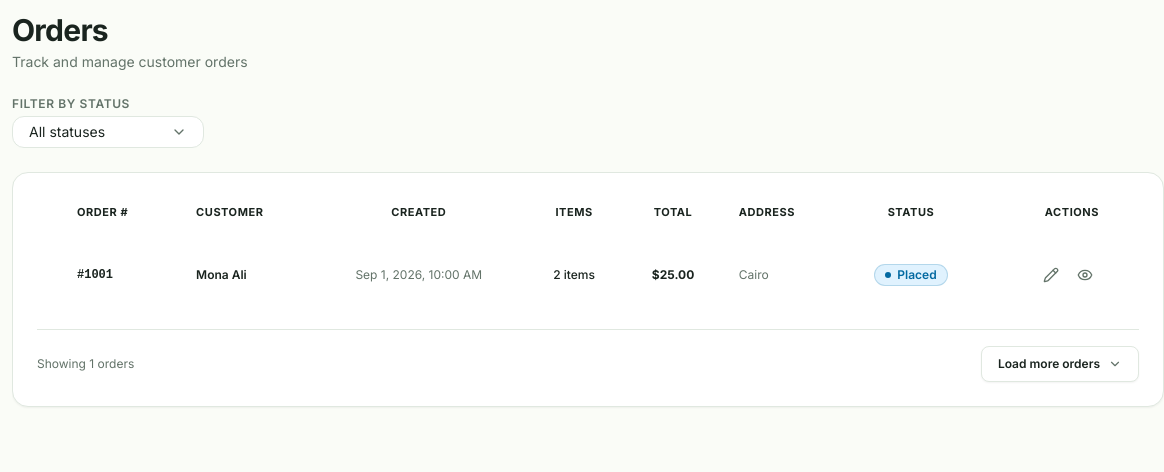
Test: orders pages › loads the next page and keeps existing orders
Click the button "Load more orders" at point(1060, 364), box [981, 346, 1139, 382]
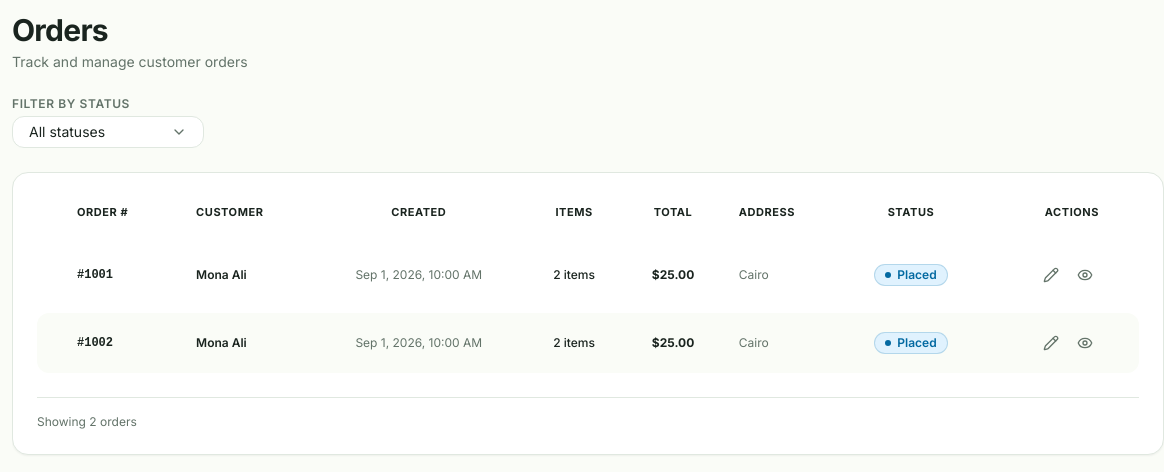
Expected: the text "#1001" is shown, [77, 268, 113, 282]
Expected: the text "#1002" is shown, [77, 336, 113, 350]
Expected: the text "Showing 2 orders" is shown, [37, 414, 137, 430]
